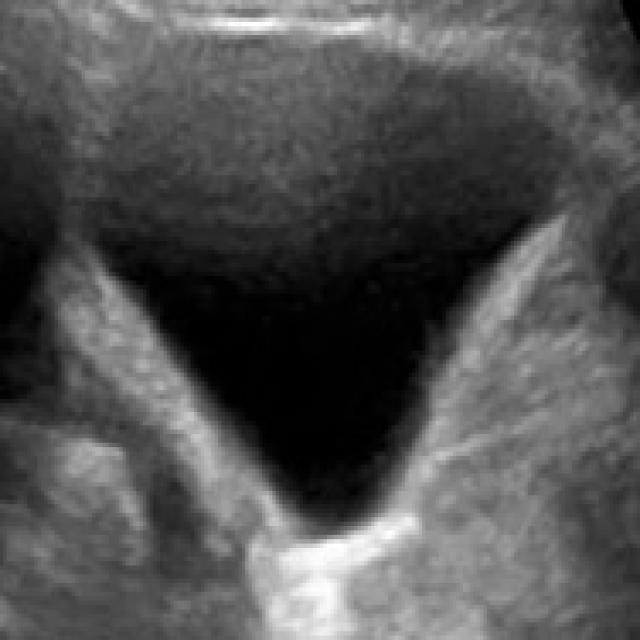bladder: (49, 9, 572, 605)
